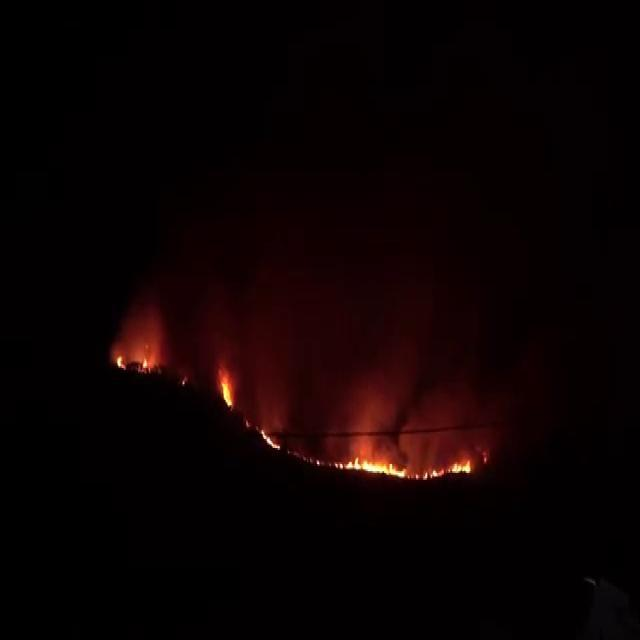Fire: (338, 454, 409, 478), (260, 423, 281, 452), (218, 373, 234, 411), (453, 455, 473, 477), (115, 350, 126, 372)
Smoke: (332, 333, 422, 452), (111, 298, 171, 378)
